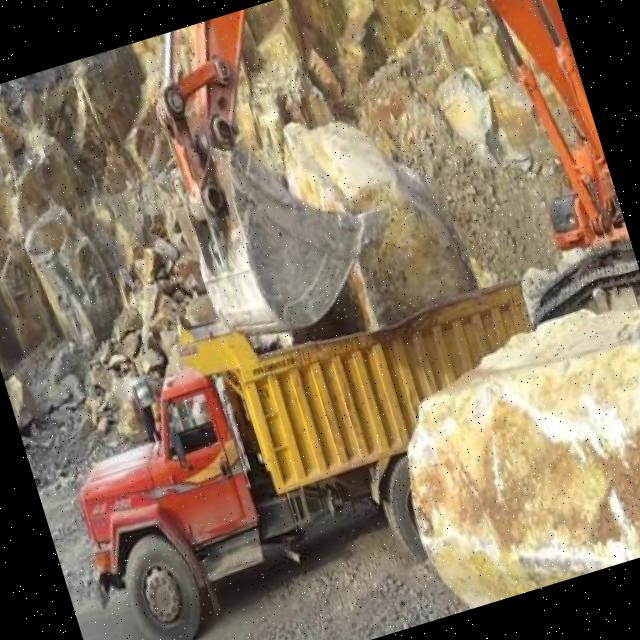Dump Truck: (29, 217, 599, 640)
Excavator: (127, 0, 640, 471)
